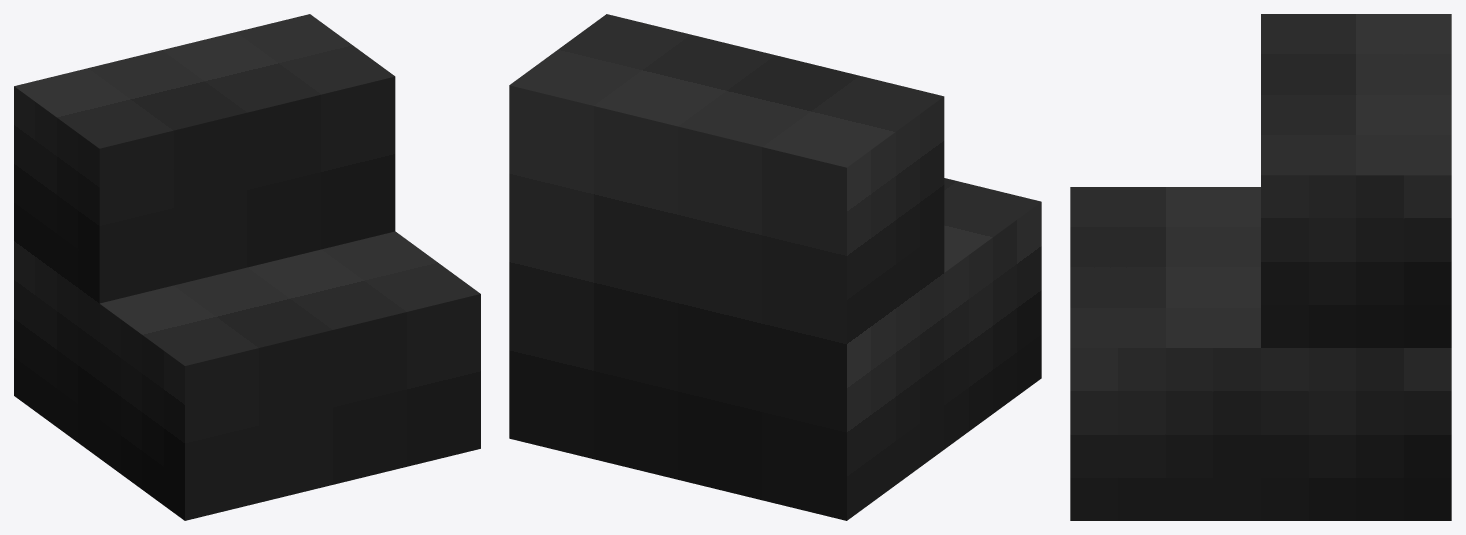
File: deb_graphite.obj
3 renders of one model, left to right at view 1: azimuth 30°, elevation 25°; view 2: azimuth 150°, elevation 25°; view 3: azimuth 270°, elevation 25°, orthographic. The views are drawn at different scales.
Visible parts, largest first — view 1: Cube_Cube.001; view 2: Cube_Cube.001; view 3: Cube_Cube.001.
Part boxes in pixels (x1,y1,x2,y2): Cube_Cube.001: (14, 14, 480, 520); Cube_Cube.001: (509, 14, 1041, 520); Cube_Cube.001: (1070, 14, 1451, 520).
Size of the model in its own units: 0.25 by 0.25 by 0.25.
